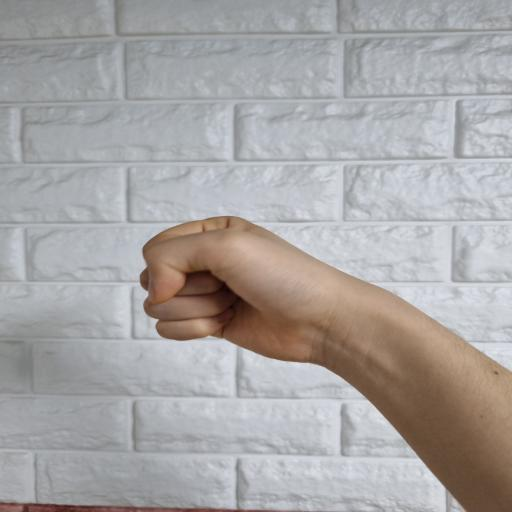Rock: (140, 216, 387, 371)
